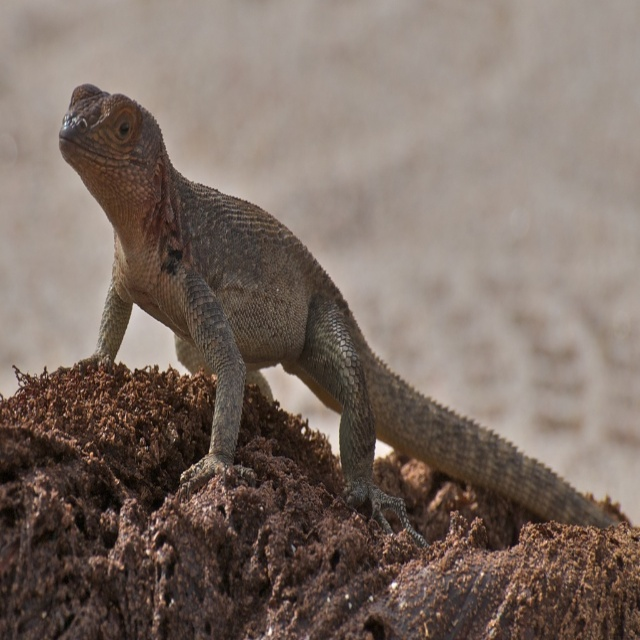Lizard: (56, 88, 608, 587)
